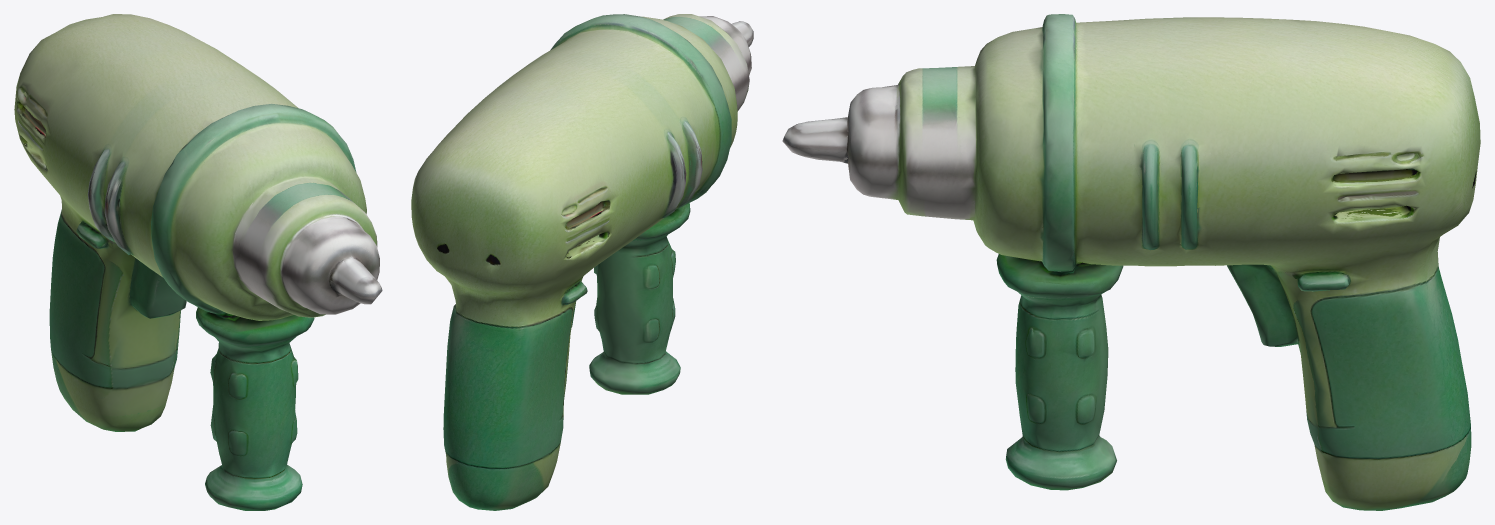
Rendered from Drill_Origninal.glb.
3 views of the same model, side by side, from view 1: azimuth 30°, elevation 25°; view 2: azimuth 150°, elevation 25°; view 3: azimuth 270°, elevation 25° (orthographic). The views are drawn at different scales.
Visible parts, largest first — view 1: texture_mapping; view 2: texture_mapping; view 3: texture_mapping.
Part boxes in pixels (<box>): texture_mapping: <box>14,14,382,510</box>; texture_mapping: <box>411,14,753,510</box>; texture_mapping: <box>782,14,1480,510</box>.
Size of the model in its own units: 0.4195 by 0.747 by 0.9987.
1 material, 1 textured.
